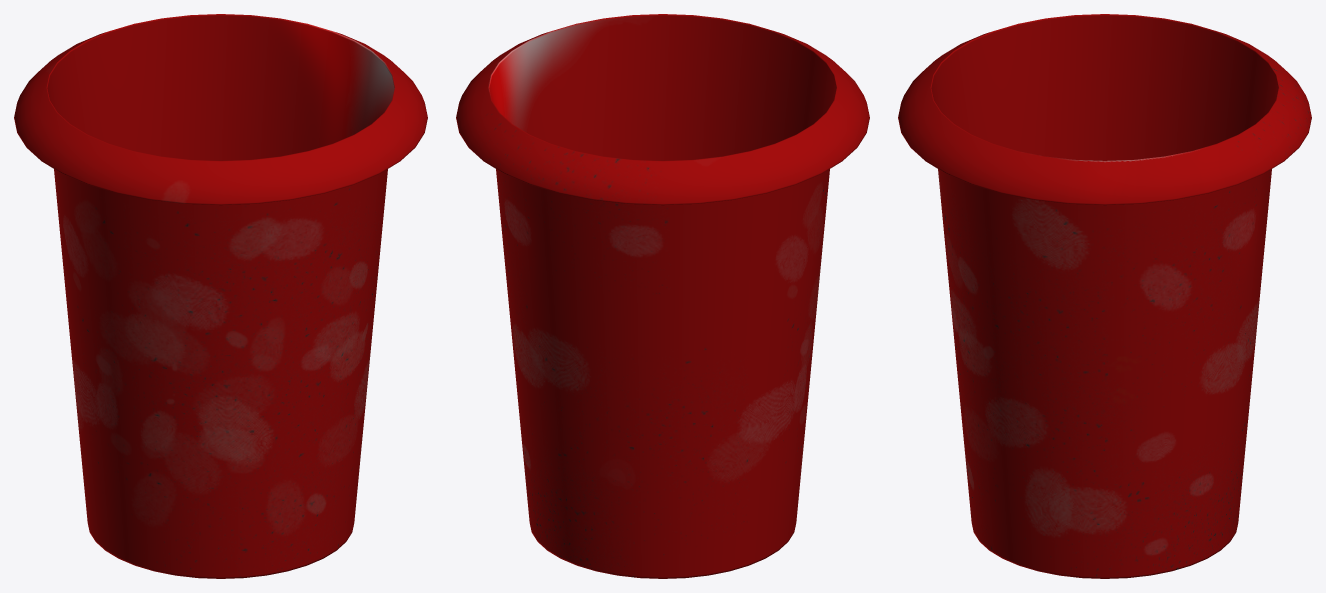
File: Dust Bin_01.fbx
3 views of the same model, side by side, from view 1: azimuth 30°, elevation 25°; view 2: azimuth 150°, elevation 25°; view 3: azimuth 270°, elevation 25° (orthographic).
Parts seen in each view (by area): view 1: DustBin_01; view 2: DustBin_01; view 3: DustBin_01.
Part boxes in pixels (left/top/right/bottom): DustBin_01: left=14, top=14, right=427, bottom=578; DustBin_01: left=456, top=14, right=869, bottom=578; DustBin_01: left=898, top=14, right=1311, bottom=578.
Bounding box in the file's own units: 57.39 × 57.39 × 66.56.
Materials: 1 (1 with a texture image).
